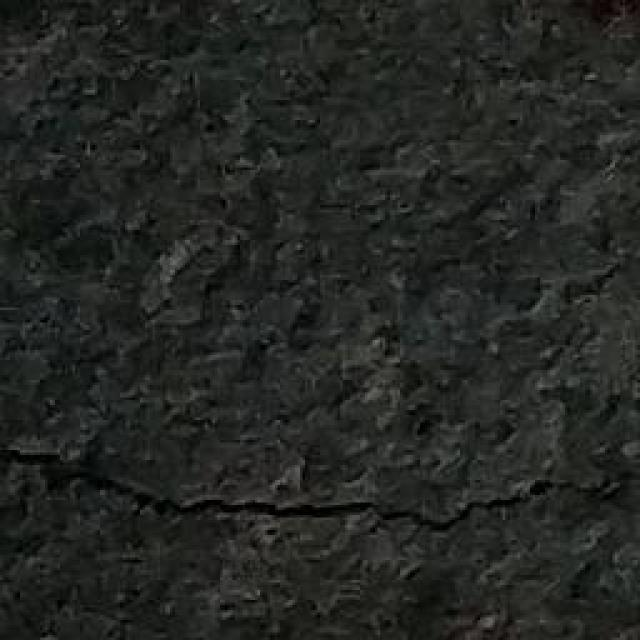Transverse: (9, 423, 640, 539)
